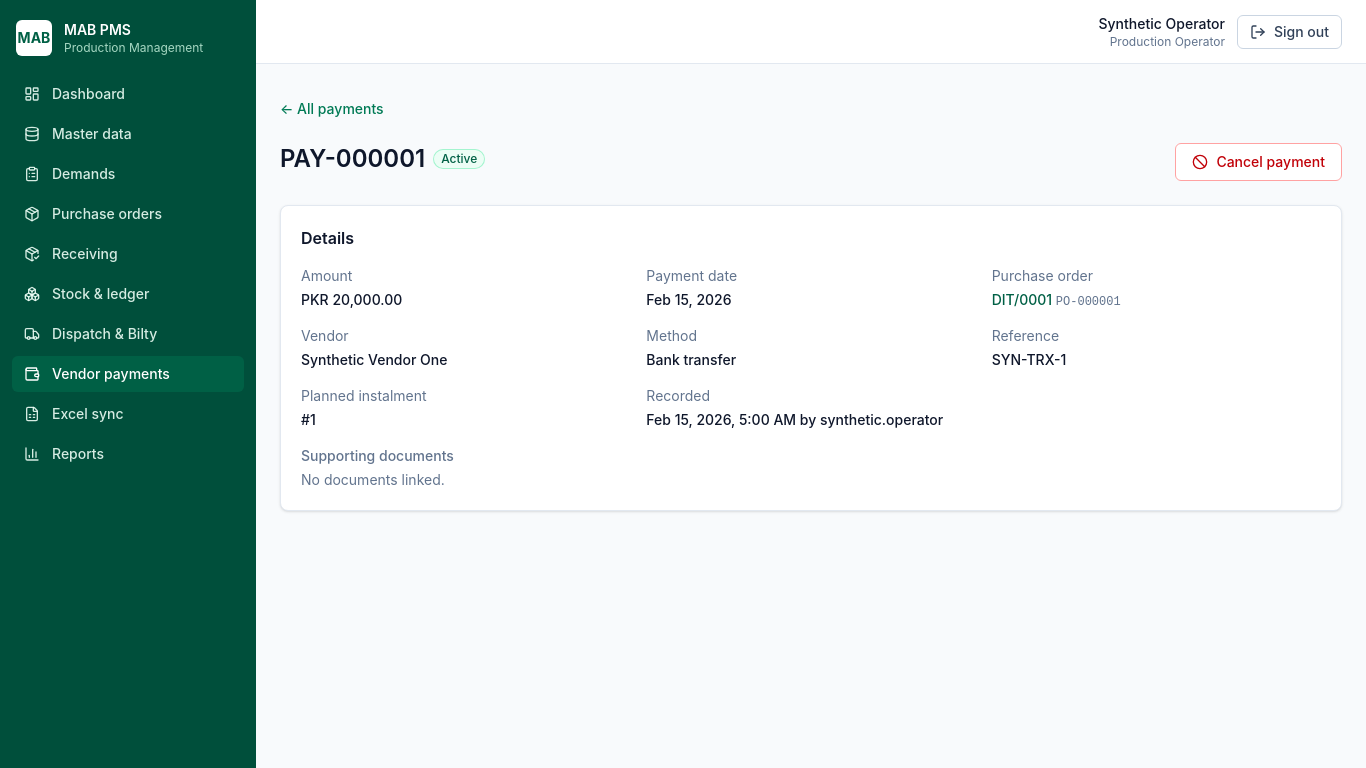
Test: Payment detail › cancels a payment with a reason
Check: the text "PKR 20,000.00" is shown, box left=301, top=291, right=402, bottom=308
Click the button "Cancel payment" at (1259, 162), box left=1175, top=143, right=1342, bottom=181
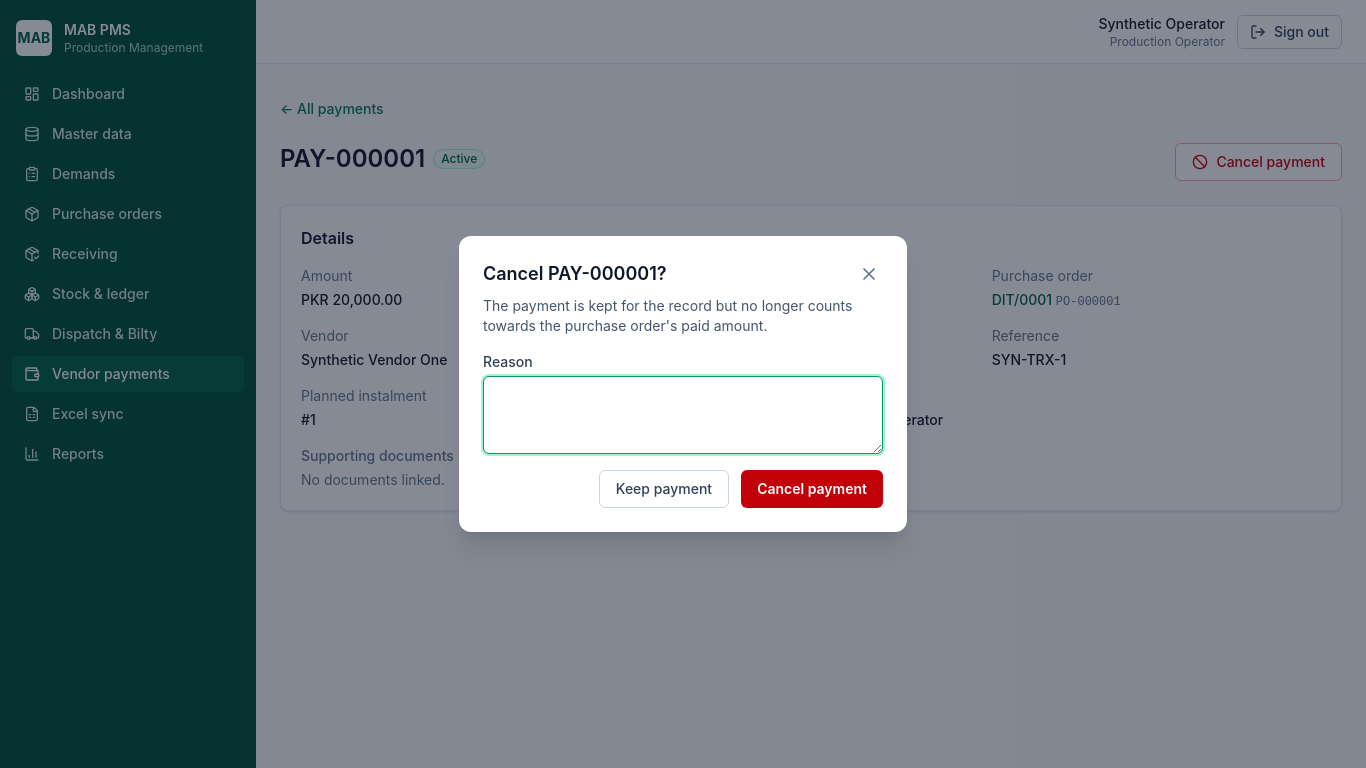
Type "Synthetic duplicate" into the text box labelled "Reason" at (683, 415), box left=483, top=376, right=883, bottom=454
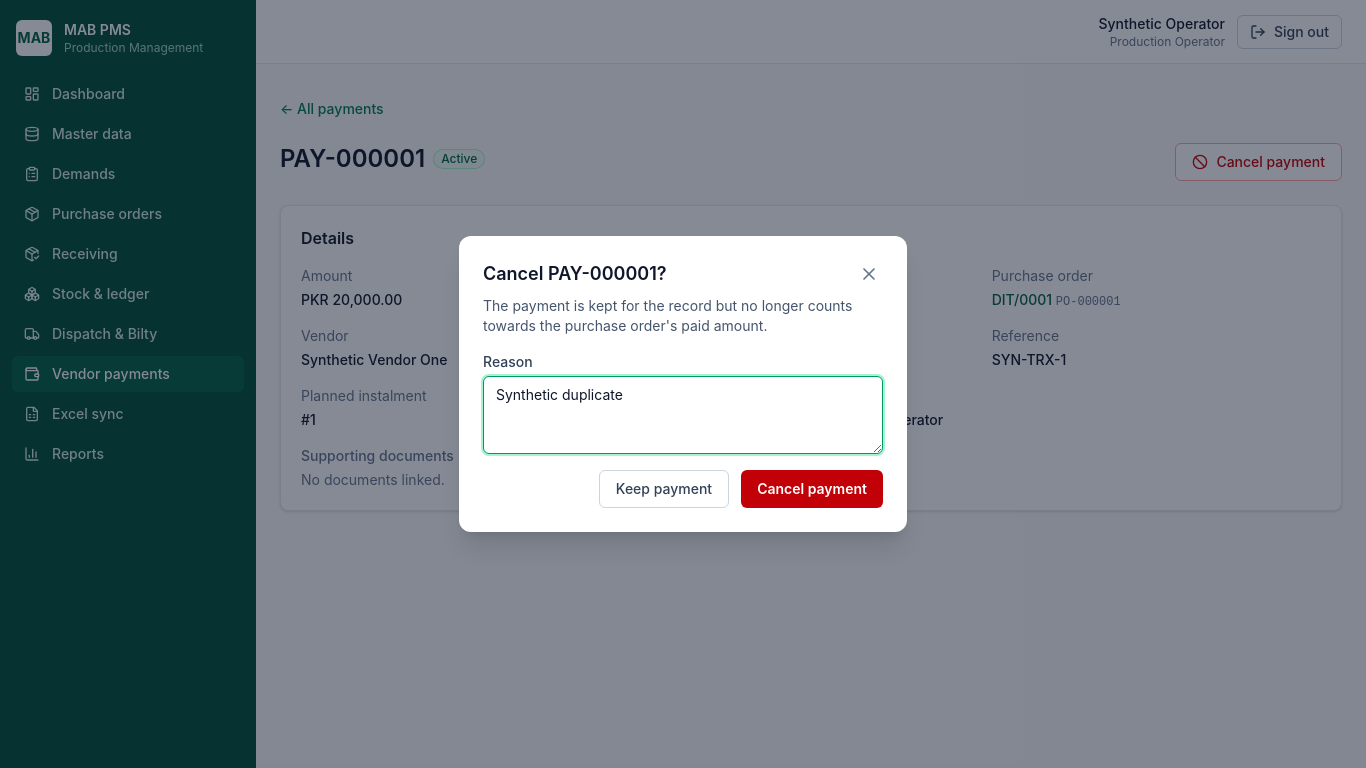
Click the button "Cancel payment" at (812, 489), box left=741, top=470, right=883, bottom=508
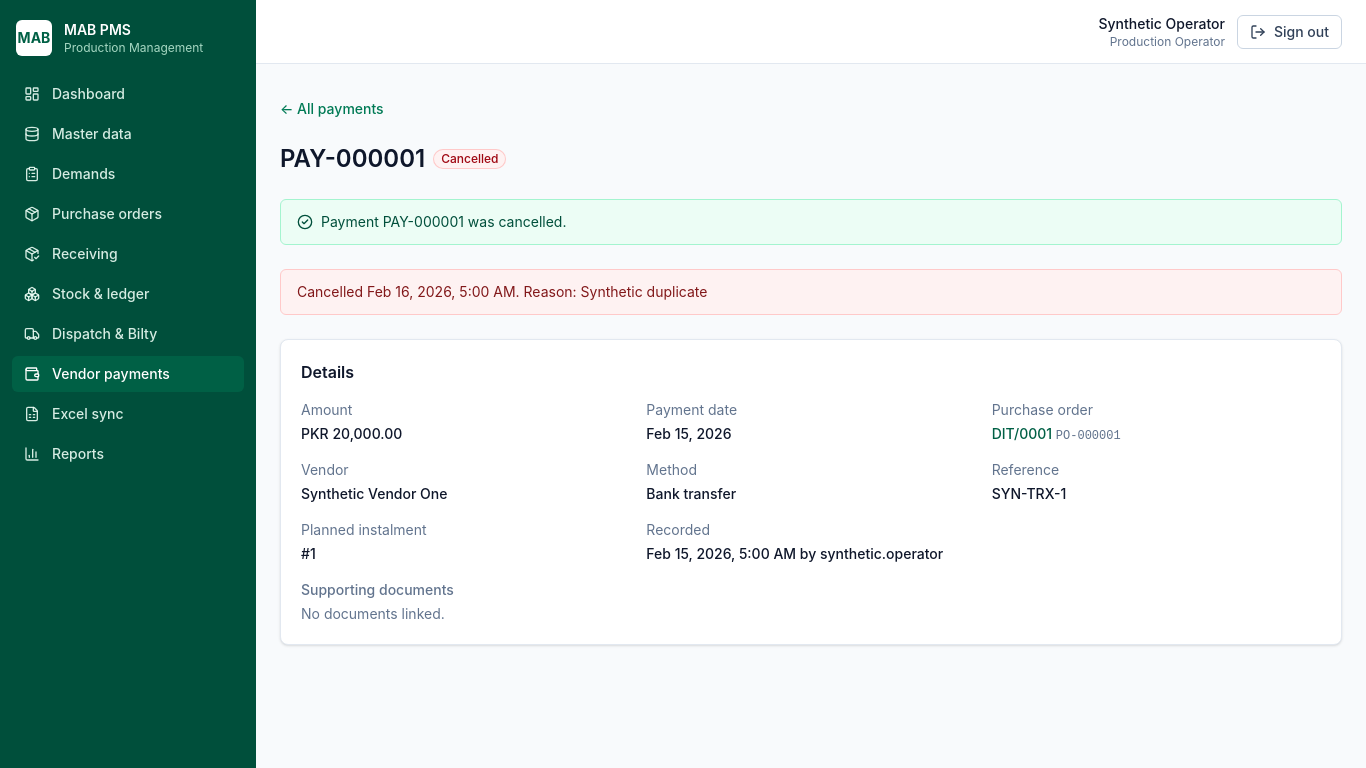
Check: the text "Payment PAY-000001 was cancelled." is shown, box left=321, top=212, right=566, bottom=232
